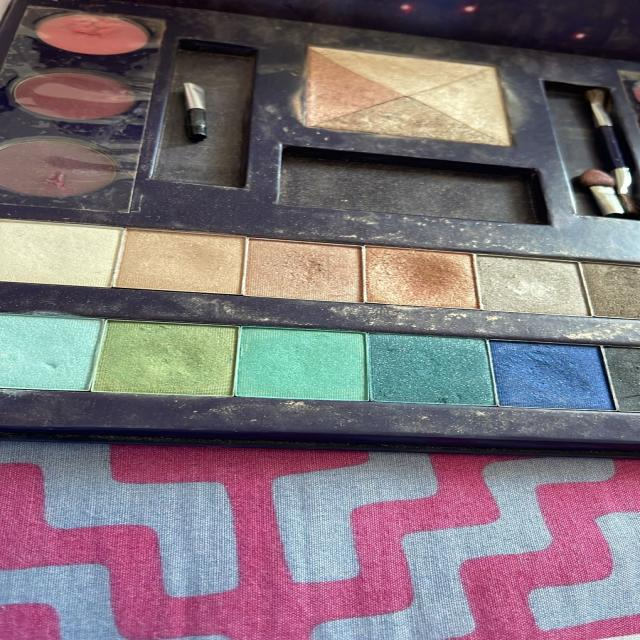brush: (564, 79, 632, 230)
eye shade: (5, 319, 640, 450)
highlighter: (10, 225, 640, 328), (283, 20, 532, 170)
lip shade: (6, 0, 180, 221)
